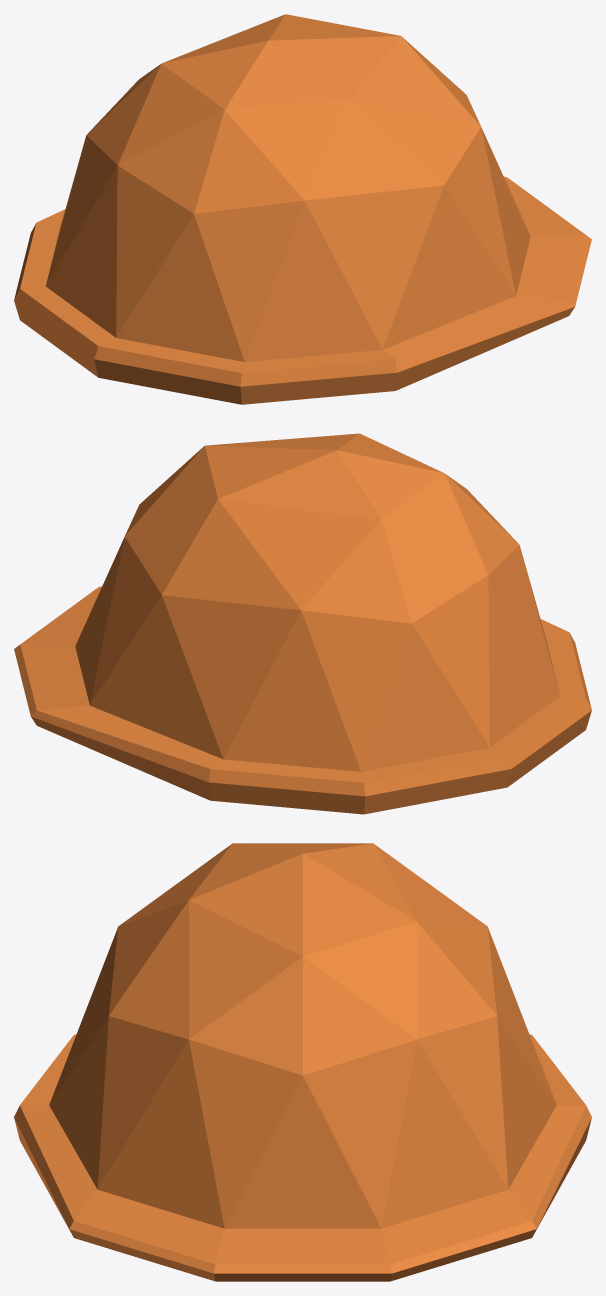
Rendered from Helmet.glb.
3 renders of one model, top to bottom at view 1: azimuth 30°, elevation 25°; view 2: azimuth 150°, elevation 25°; view 3: azimuth 270°, elevation 25°, orthographic. The views are drawn at different scales.
Visible parts, largest first — view 1: Helmet; view 2: Helmet; view 3: Helmet.
Part boxes in pixels (x1,y1,x2,y2): Helmet: (14, 14, 591, 404); Helmet: (14, 433, 591, 814); Helmet: (14, 843, 591, 1281).
Bounding box in the file's own units: 89.97 × 44.45 × 81.19.
